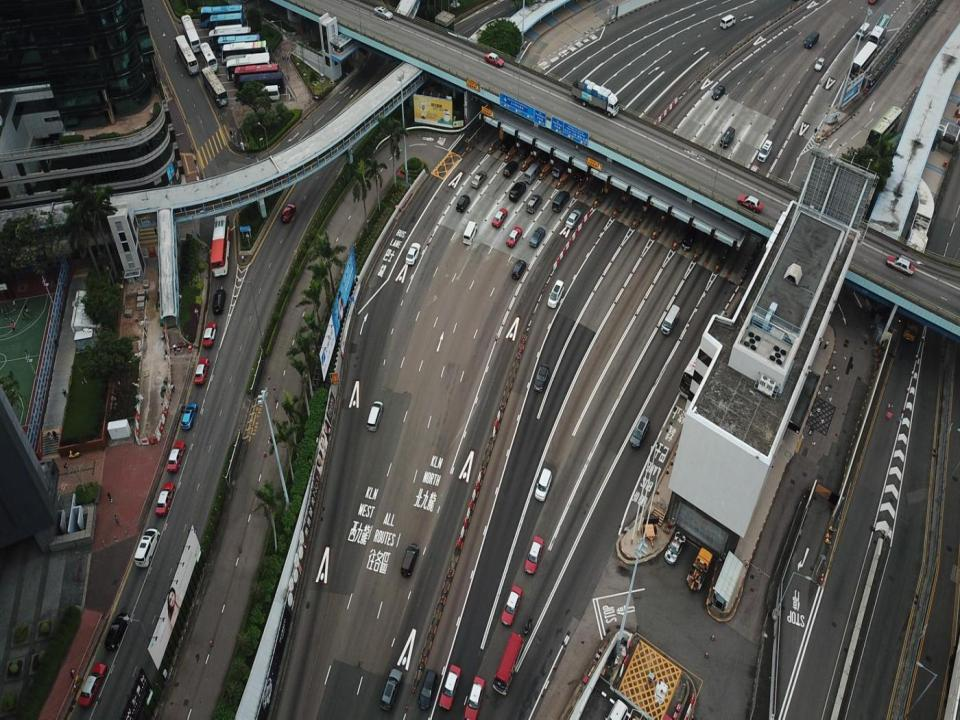bus: (678, 326, 726, 402), (864, 105, 902, 160), (493, 632, 523, 693), (844, 41, 877, 89), (220, 40, 270, 66), (210, 214, 230, 276), (208, 26, 252, 53), (864, 13, 891, 56), (225, 56, 273, 80), (234, 63, 279, 88), (239, 70, 284, 95), (201, 66, 228, 107), (173, 35, 199, 76), (200, 5, 244, 28), (180, 14, 201, 53), (210, 12, 243, 33), (200, 41, 218, 74), (214, 23, 242, 44), (243, 51, 269, 72), (245, 85, 279, 101)
car: (78, 664, 107, 706), (463, 674, 485, 719), (104, 612, 130, 650), (440, 662, 460, 710), (500, 585, 522, 626), (524, 535, 544, 575), (664, 532, 686, 564), (155, 482, 175, 517), (886, 255, 915, 277), (166, 441, 185, 470), (737, 194, 763, 211), (181, 403, 198, 429), (534, 364, 550, 391), (194, 358, 209, 384), (201, 322, 217, 346), (406, 242, 420, 265), (484, 51, 504, 67), (565, 208, 581, 228), (492, 208, 508, 228), (506, 226, 522, 246), (511, 260, 526, 280), (470, 171, 487, 188), (530, 228, 546, 246), (281, 203, 296, 222), (502, 161, 518, 177), (374, 6, 393, 19), (539, 146, 551, 164), (574, 167, 587, 183), (712, 85, 725, 100), (814, 57, 825, 71)
truck: (571, 79, 621, 117), (686, 548, 712, 590), (904, 301, 922, 341)
van: (134, 528, 160, 567), (380, 669, 403, 710), (417, 670, 436, 708), (629, 415, 650, 448), (400, 542, 419, 576), (660, 304, 680, 335), (535, 468, 551, 502), (367, 400, 383, 431), (548, 280, 565, 308), (605, 699, 627, 719), (682, 228, 698, 252), (552, 153, 568, 177), (499, 132, 517, 152), (508, 182, 526, 202), (552, 191, 569, 212), (524, 162, 540, 184), (463, 220, 477, 245), (757, 140, 772, 162), (212, 289, 225, 314), (518, 141, 534, 161), (720, 126, 734, 148), (526, 194, 542, 213), (804, 31, 820, 48), (720, 14, 736, 29), (456, 196, 470, 212), (856, 23, 869, 40)
